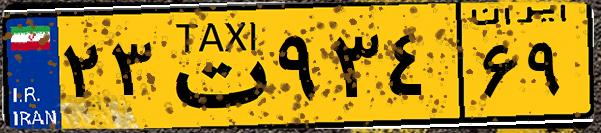2: (57, 26, 110, 100)
3: (330, 28, 385, 110), (110, 28, 158, 98)
4: (385, 28, 445, 110)
6: (475, 38, 525, 113)
9: (270, 28, 330, 110), (525, 38, 570, 115)
ت: (158, 12, 270, 120)
